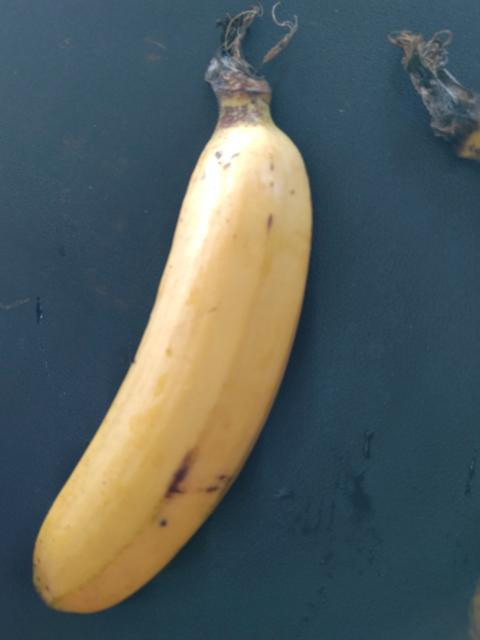freshripe: (29, 100, 340, 623)
